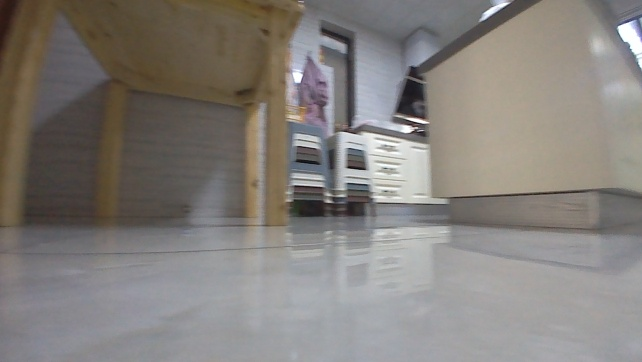cupboard: (409, 0, 641, 232), (349, 120, 449, 216)
